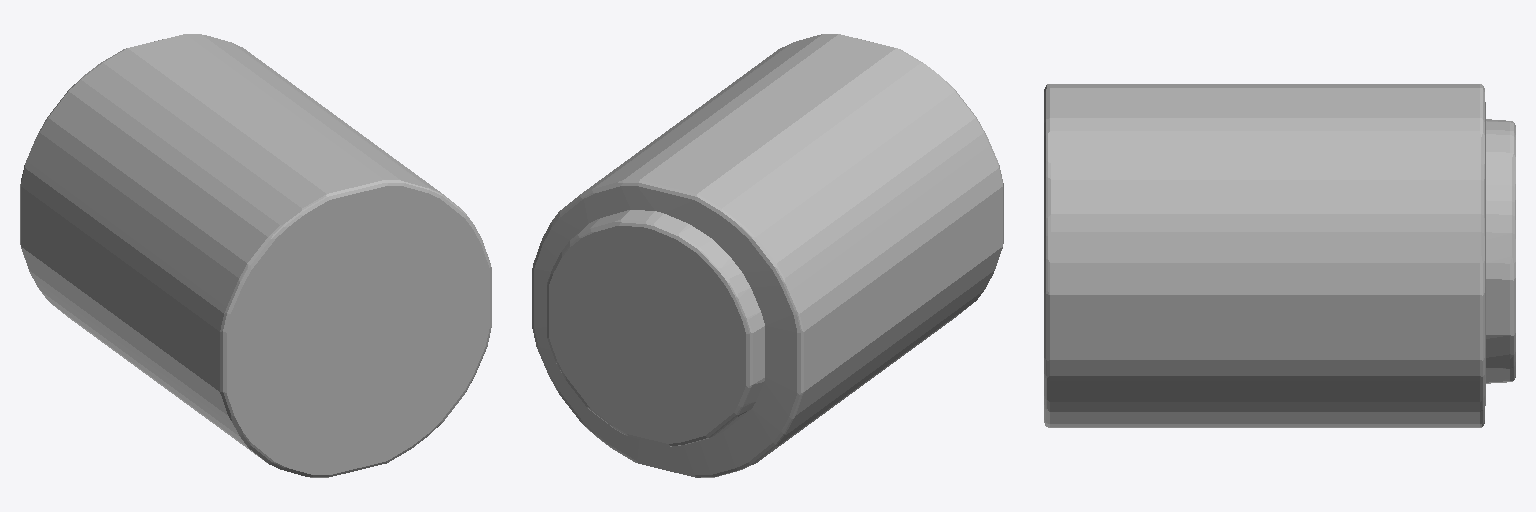
robot.urdf — root:
<?xml version="1.0"?>
<robot name="root">
  <link name="base_link">
    <visual>
      <origin xyz="0 0 0" rpy="0 0 0" />
      <geometry>
        <mesh filename="../meshes/unidex_core_bottle-542223f09a872e973858be97087c26ec_008.obj" scale="1.0000E+00 1.0000E+00 1.0000E+00" />
      </geometry>
      <material name="">
        <color rgba="7.50E-01 7.50E-01 7.50E-01 1" />
      </material>
    </visual>
    <collision>
      <origin xyz="0 0 0" rpy="0 0 0" />
      <geometry>
        <mesh filename="../meshes/unidex_core_bottle-542223f09a872e973858be97087c26ec_008.obj" scale="1.0000E+00 1.0000E+00 1.0000E+00" />
      </geometry>
    </collision>
  </link>
</robot>

--- What the picture shows (computed from the rendered views, not written in the file) ---
The picture shows the robot from 3 angles, left to right: view 1: azimuth 30°, elevation 25°; view 2: azimuth 150°, elevation 25°; view 3: azimuth 270°, elevation 25°; orthographic projection.
Model root with 1 links and 0 joints (none), rooted at base_link, posed all joints at 0.
Visible links, largest first — view 1: base_link; view 2: base_link; view 3: base_link.
Boxes of the visible links, x1,y1,x2,y2 form: base_link: (20,34,491,477); base_link: (532,34,1003,477); base_link: (1044,84,1515,427).
Size in the robot's own frame: 0.0912 by 0.1271 by 0.0912 metres.
1 mesh visuals loaded from 1 distinct referenced files (1 OBJ).
